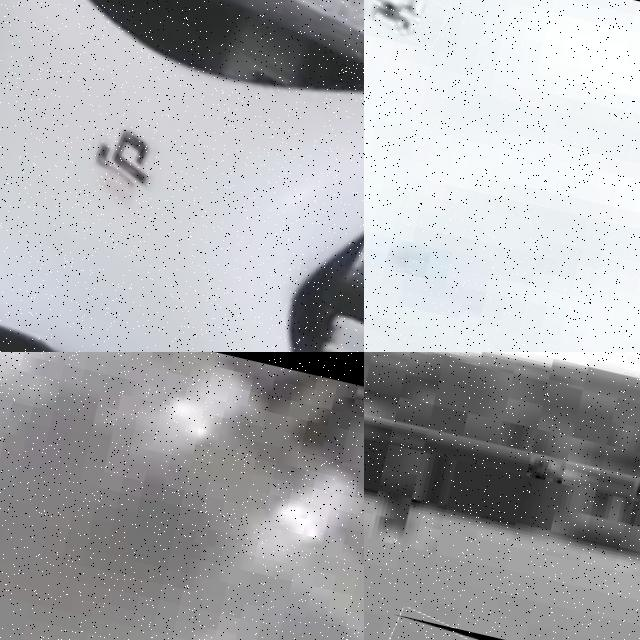drone: (0, 0, 364, 352), (364, 0, 453, 44)
